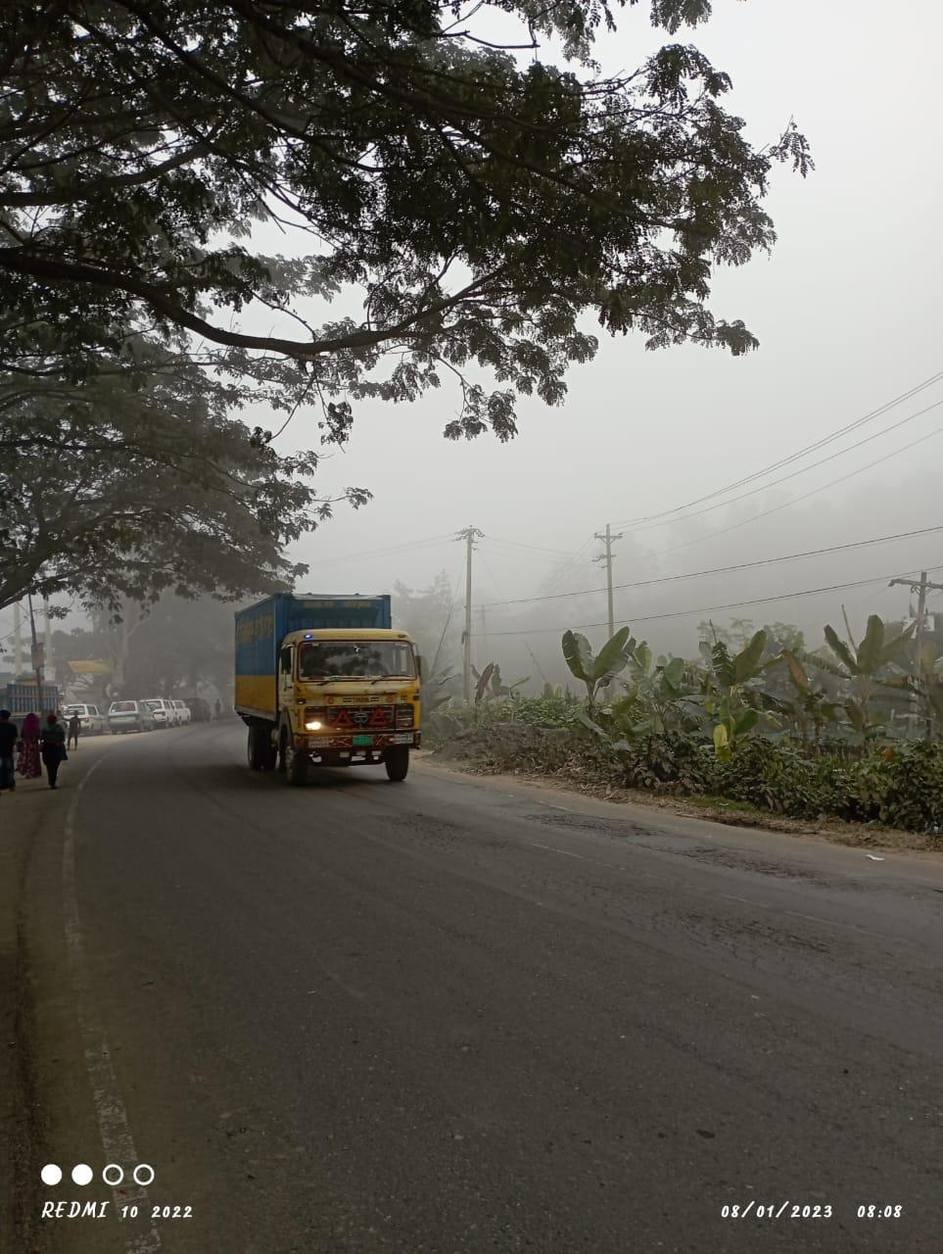Car: (100, 695, 155, 730)
Truck: (229, 581, 429, 791)
